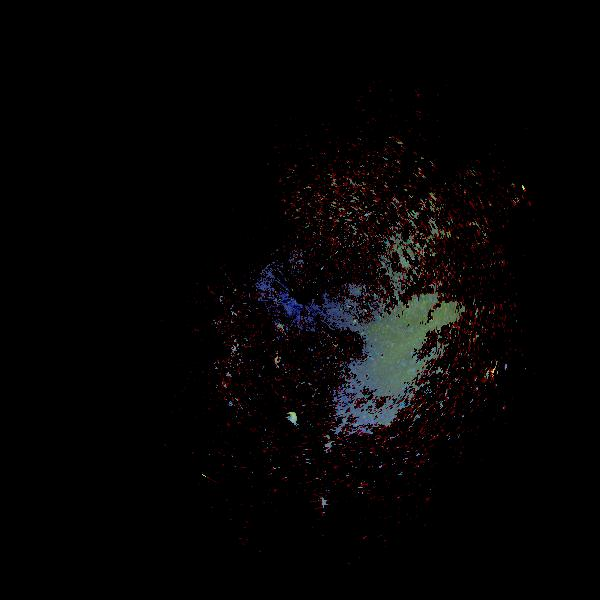roost: (281, 411, 299, 429)
